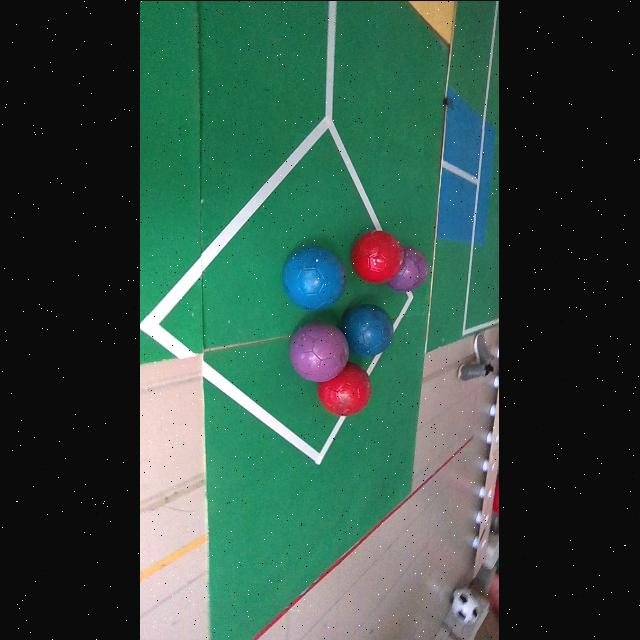B: (283, 245, 348, 310), (342, 303, 394, 355)
P: (291, 323, 349, 382), (387, 245, 430, 291)
R: (319, 360, 372, 415), (352, 229, 405, 282)
